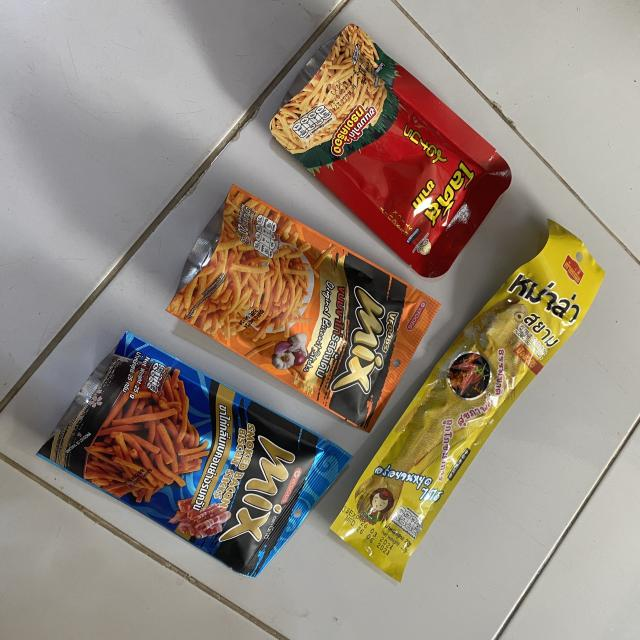plastik: (331, 220, 605, 580), (39, 331, 351, 578), (168, 185, 440, 431), (270, 25, 511, 276)
